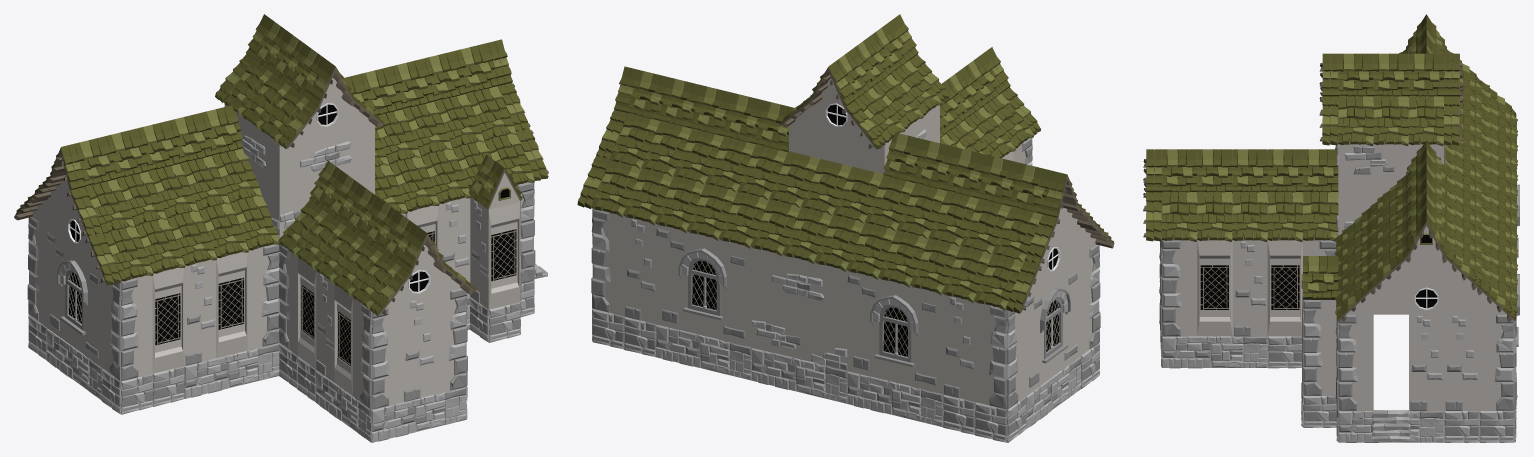
File: HOUSE_13_PARTS.fbx
3 renders of one model, left to right at view 1: azimuth 30°, elevation 25°; view 2: azimuth 150°, elevation 25°; view 3: azimuth 270°, elevation 25°, orthographic. The views are drawn at different scales.
Parts seen in each view (by area): view 1: WALL_03_2, WINDOW_03_19, WINDOW_04_5, WALL_05_6, WINDOW_04_9, FOUNDATION_03_2, FOUNDATION_03_4, WALL_05_2, WALL_07_2, WALL_06_3, WALL_06_9, WINDOW_04_8 (+77 smaller); view 2: WINDOW_03_17, WALL_03_4, WINDOW_03_18, WINDOW_03_19, WALL_06_12, WALL_06_13, WALL_05_8, FOUNDATION_03_6, WALL_07_8, FOUNDATION_03_8, FOUNDATION_03_7, WALL_07_7 (+66 smaller); view 3: WALL_01_2, WALL_06_11, WALL_06_10, WALL_05_3, WALL_06_4, WINDOW_04_2, WALL_05_9, WALL_07_4, FOUNDATION_03_11, WINDOW_04_3, WALL_05_4, FOUNDATION_03_9 (+72 smaller).
Part boxes in pixels (x1,y1,x2,y2): WALL_03_2: (279,121,374,237); WINDOW_03_19: (47,228,102,367); WINDOW_04_5: (488,202,520,309); WALL_05_6: (120,275,152,381); WINDOW_04_9: (152,267,184,373); FOUNDATION_03_2: (371,386,466,442); FOUNDATION_03_4: (184,343,279,398); WALL_05_2: (371,302,403,409); WALL_07_2: (435,288,467,393); WALL_06_3: (403,294,434,401); WALL_06_9: (184,260,215,365); WINDOW_04_8: (216,252,247,357); WINDOW_03_17: (847,271,943,393); WALL_03_4: (752,247,847,370); WINDOW_03_18: (656,224,751,347); WINDOW_03_19: (1025,256,1080,395); WALL_06_12: (943,294,975,401); WALL_06_13: (624,216,656,323); WALL_05_8: (592,208,624,315); FOUNDATION_03_6: (847,371,943,427); WALL_07_8: (975,302,1007,409); FOUNDATION_03_8: (656,324,751,380); FOUNDATION_03_7: (752,347,847,403); WALL_07_7: (1081,244,1100,355); WALL_01_2: (1338,144,1444,235); WALL_06_11: (1444,314,1479,410); WALL_06_10: (1409,314,1444,410); WALL_05_3: (1162,240,1197,336); WALL_06_4: (1232,240,1267,336); WINDOW_04_2: (1197,240,1232,335); WALL_05_9: (1338,314,1373,410); WALL_07_4: (1479,314,1514,410); FOUNDATION_03_11: (1162,336,1267,368); WINDOW_04_3: (1267,240,1302,335); WALL_05_4: (1303,300,1336,395); FOUNDATION_03_9: (1338,410,1444,442).
Size of the model in its own units: 1456 by 914 by 1068.
